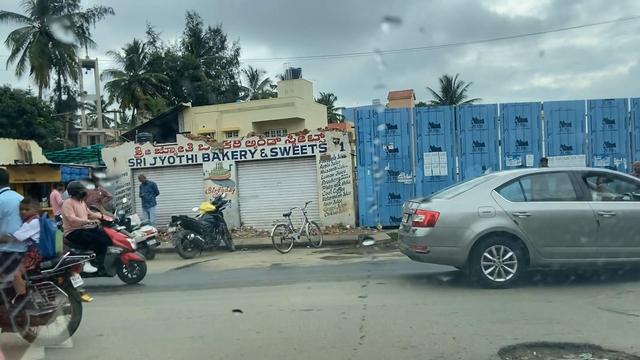LMV: (417, 179, 640, 279), (47, 181, 145, 276)
RoadDamages: (497, 336, 640, 360)
